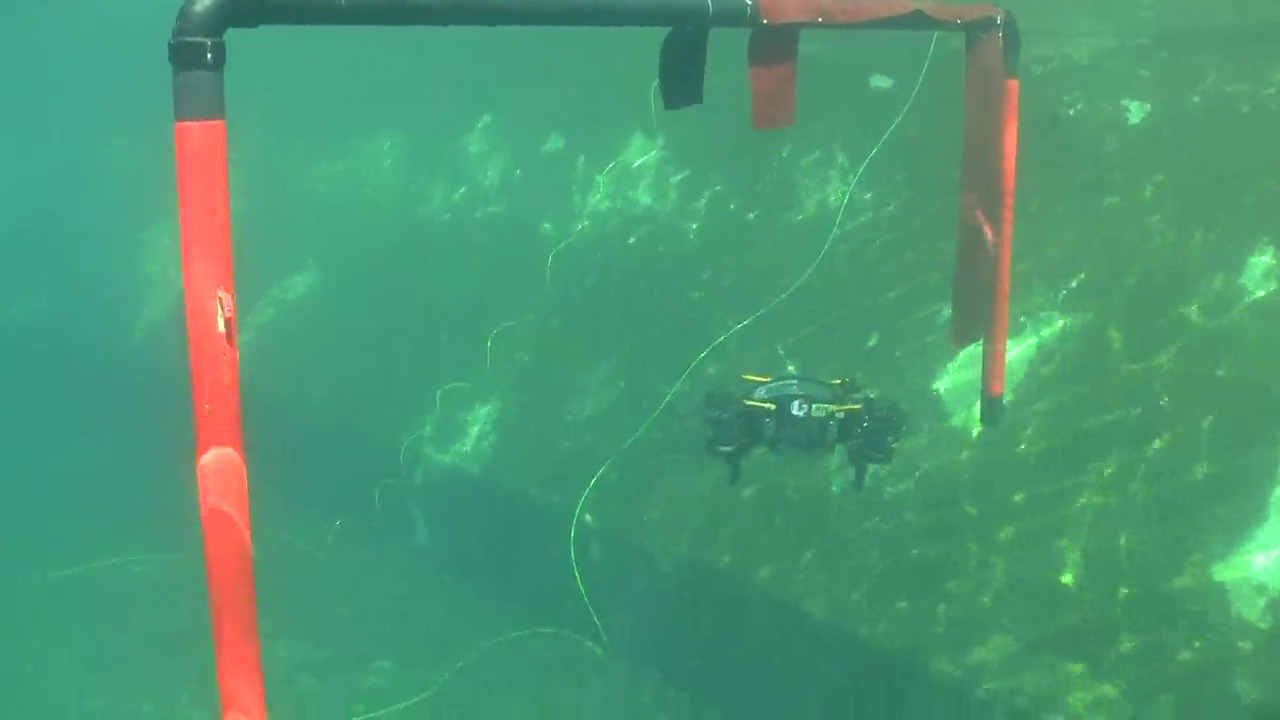gate: (153, 5, 1021, 431)
